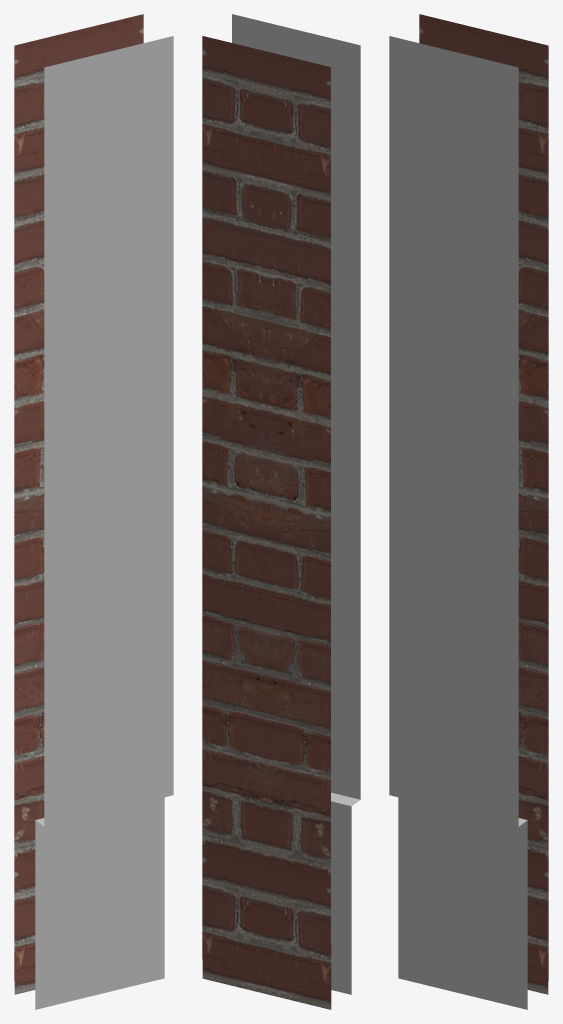
The model's file is In_WallDown_½x.FBX.
The picture shows the model from 3 angles, left to right: view 1: azimuth 30°, elevation 25°; view 2: azimuth 150°, elevation 25°; view 3: azimuth 330°, elevation 25°; orthographic projection.
Parts seen in each view (by area): view 1: WallDown_½x; view 2: WallDown_½x; view 3: WallDown_½x.
Part boxes in pixels (<box>): WallDown_½x: <box>14,14,173,1009</box>; WallDown_½x: <box>202,14,360,1009</box>; WallDown_½x: <box>389,14,548,1009</box>.
Size of the model in its own units: 50 by 350 by 20.
